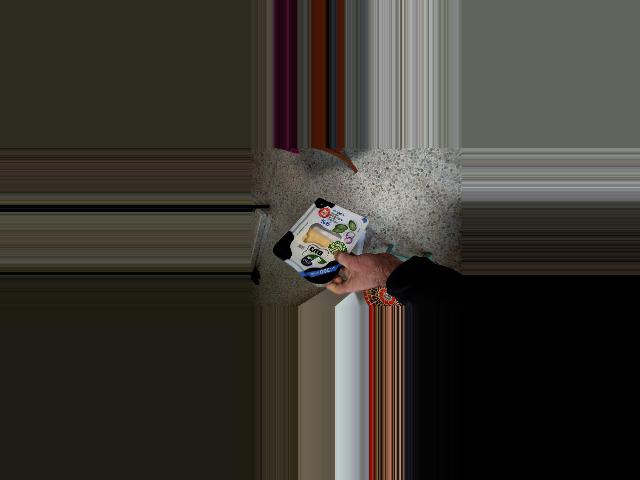cheese: (275, 189, 361, 288)
